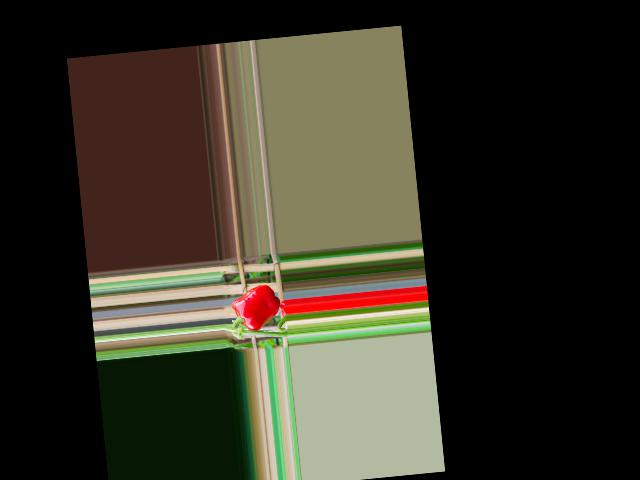bell_pepper: (229, 280, 282, 336)
